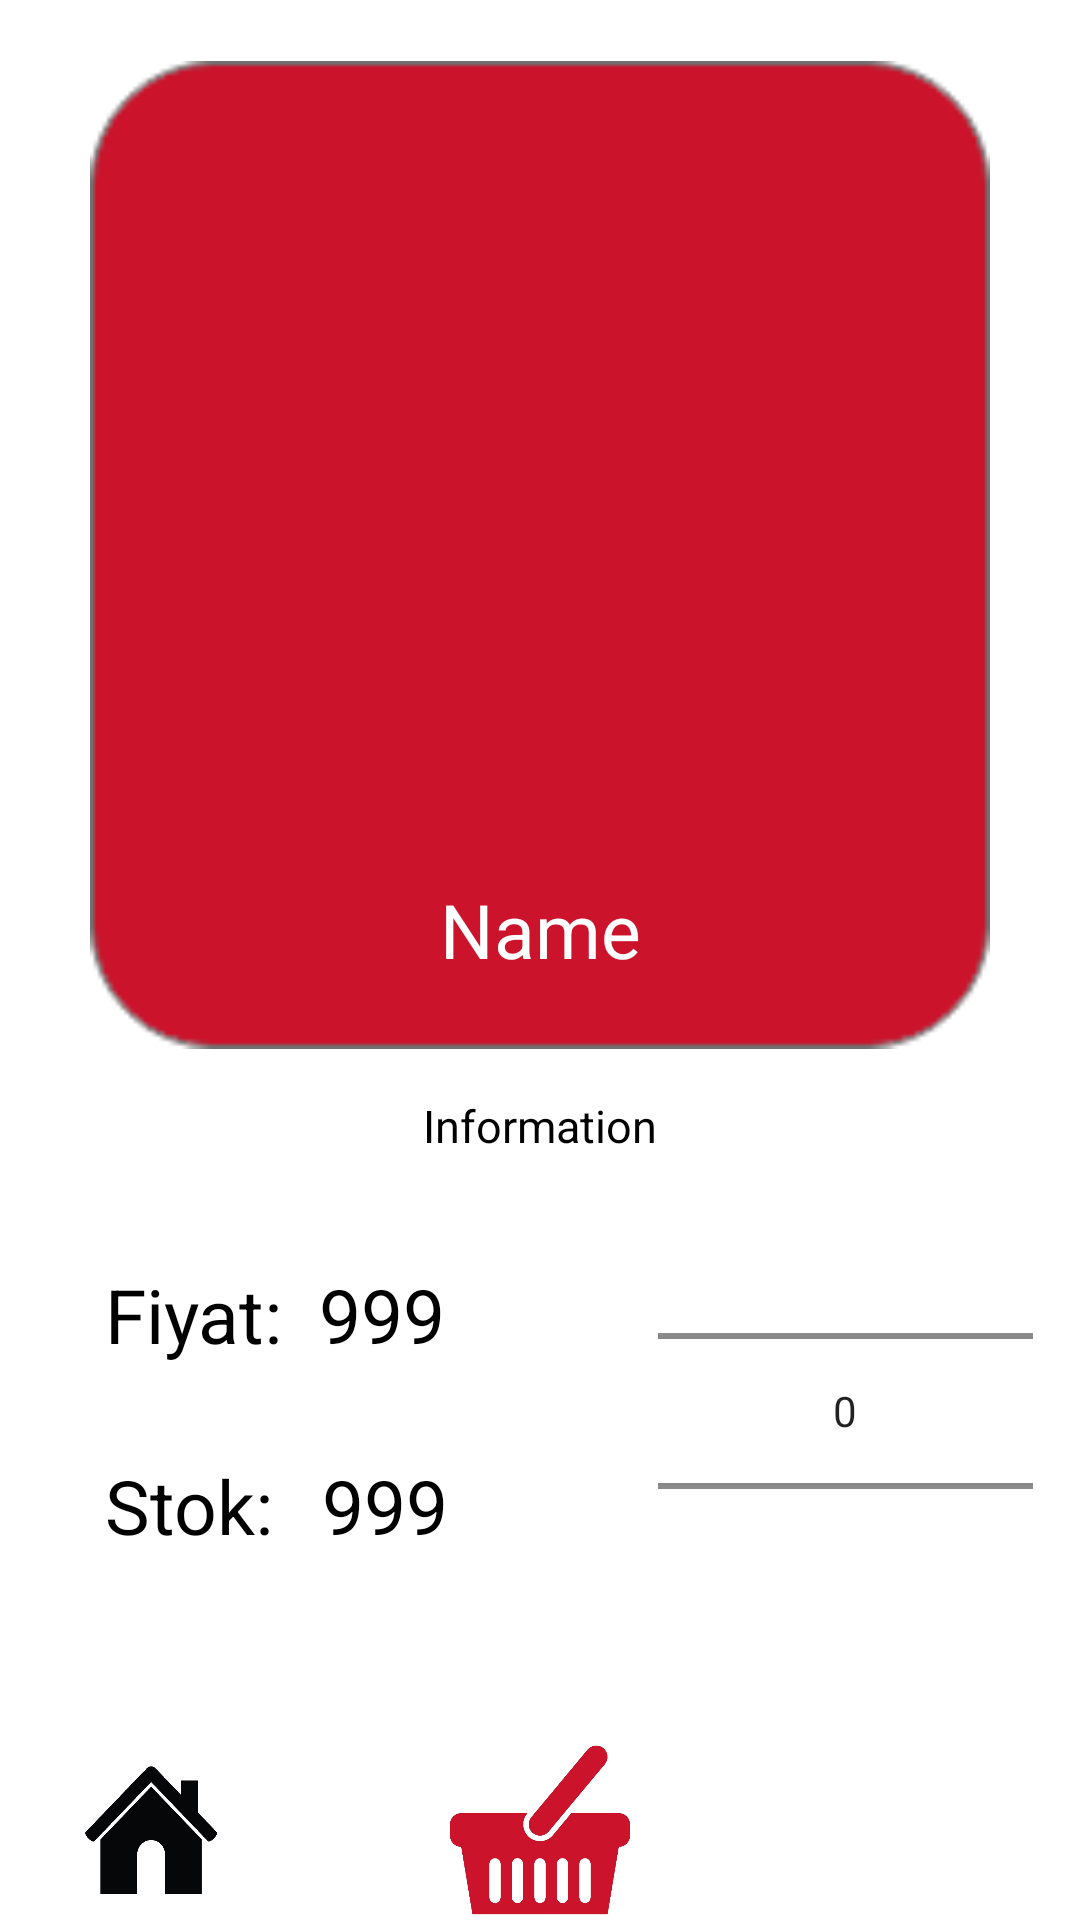

Icons on this 1080w x 1920h Android screen, each with the point to tap as (x,y):
home: (151,1830)
shopping cart: (540,1830)
